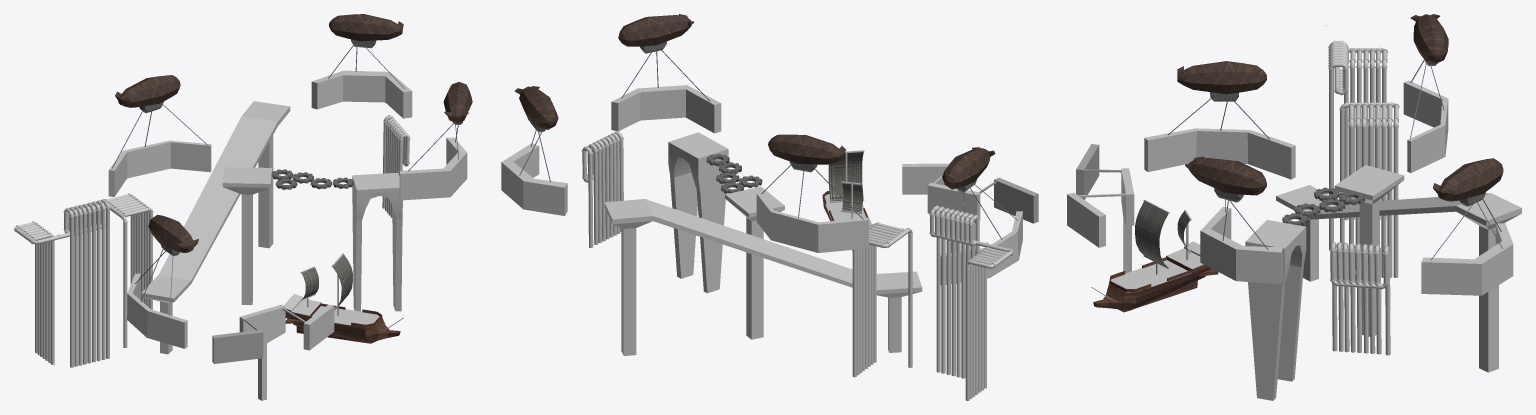
File: level map finshed prodoocyus.fbx
3 renders of one model, left to right at view 1: azimuth 30°, elevation 25°; view 2: azimuth 150°, elevation 25°; view 3: azimuth 270°, elevation 25°, orthographic. The views are drawn at different scales.
Parts seen in each view (by area): view 1: pTorus88, pCube52, pCube24, pCube40, pCube33, pCube9, pCylinder233, pCube25, pCube27, pCube35, pCylinder239, pCube44 (+6 smaller); view 2: pTorus88, pCube52, pCube40, pCylinder233, pCube27, pCube9, polySurface70, pCube33, pCube25, pCube24, pCylinder232, pCylinder238 (+6 smaller); view 3: pCube40, pCube52, pCube24, polySurface70, pCube35, pCylinder233, pTorus88, pCube33, pCube27, pCube9, pCube25, pCylinder240 (+6 smaller).
Boxes of the visible parts, box(x1,y1,x2,y2) form: pTorus88: box(14, 199, 110, 367); pCube52: box(141, 101, 290, 354); pCube24: box(284, 253, 403, 343); pCube40: box(352, 172, 402, 311); pCube33: box(311, 70, 412, 118); pCube9: box(108, 140, 211, 196); pCylinder233: box(105, 193, 153, 347); pCube25: box(222, 167, 272, 304); pCube27: box(399, 137, 467, 200); pCube35: box(127, 273, 187, 348); pCylinder239: box(329, 14, 403, 48); pCube44: box(239, 304, 285, 400); pTorus88: box(929, 205, 1013, 400); pCube52: box(604, 199, 922, 355); pCube40: box(668, 132, 728, 293); pCylinder233: box(852, 222, 912, 377); pCube27: box(611, 85, 721, 133); pCube9: box(756, 193, 868, 252); polySurface70: box(582, 131, 623, 247); pCube33: box(501, 143, 567, 215); pCube25: box(725, 186, 784, 339); pCube24: box(822, 150, 872, 250); pCylinder232: box(768, 134, 845, 172); pCylinder238: box(618, 14, 694, 53); pCube40: box(1245, 220, 1306, 400); pCube52: box(1276, 185, 1521, 372); pCube24: box(1091, 199, 1218, 312); polySurface70: box(1330, 242, 1390, 355); pCube35: box(1144, 128, 1295, 179); pCylinder233: box(1339, 102, 1399, 277); pTorus88: box(1326, 25, 1387, 250); pCube33: box(1421, 223, 1513, 295); pCube27: box(1200, 206, 1282, 284); pCube9: box(1403, 80, 1448, 172); pCube25: box(1334, 165, 1404, 336); pCylinder240: box(1177, 61, 1266, 101).
Bounding box in the file's own units: 101 × 52.94 × 78.87.
